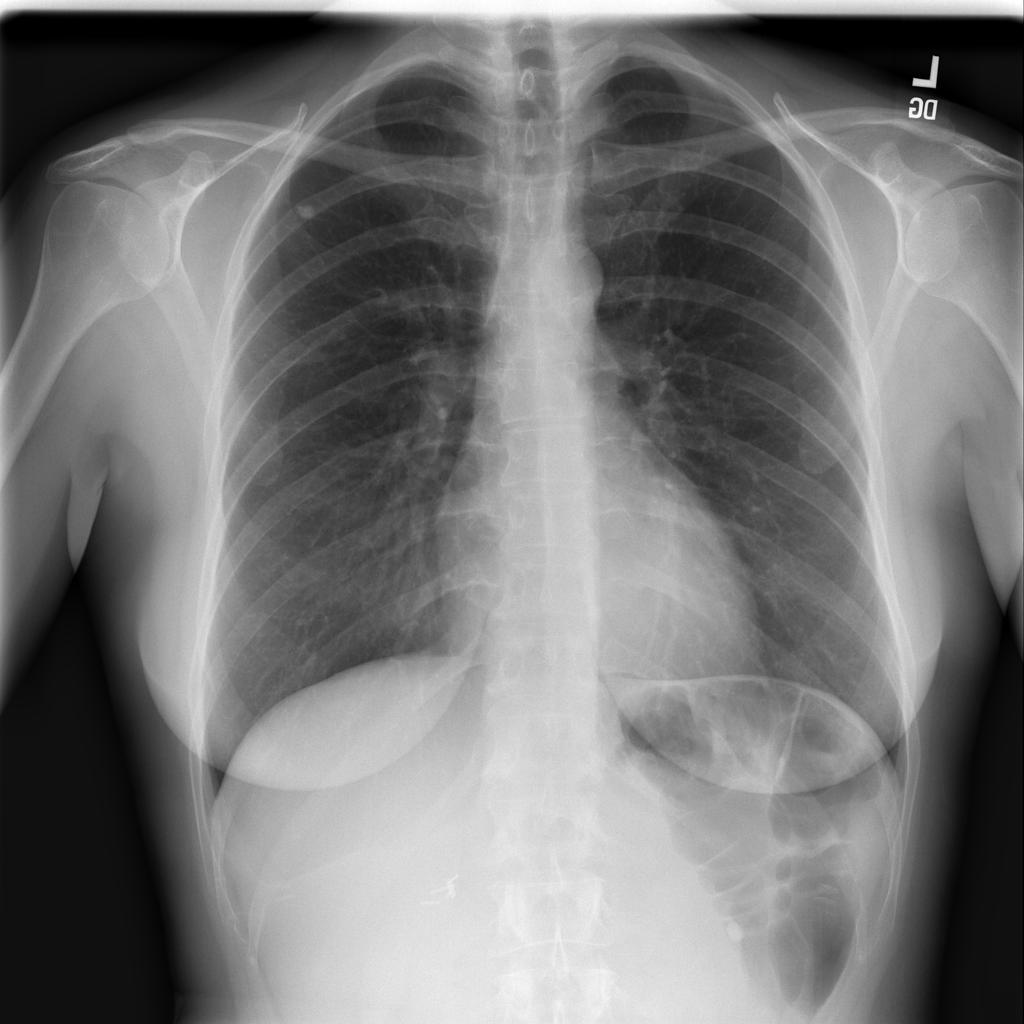nodule: (281, 189, 332, 236)
